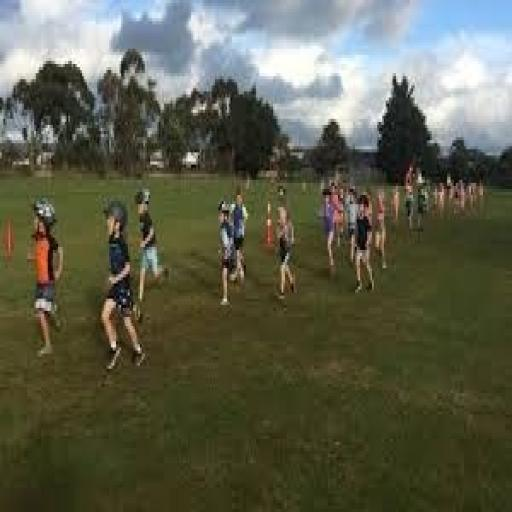running: (96, 195, 148, 375), (24, 192, 68, 363)
